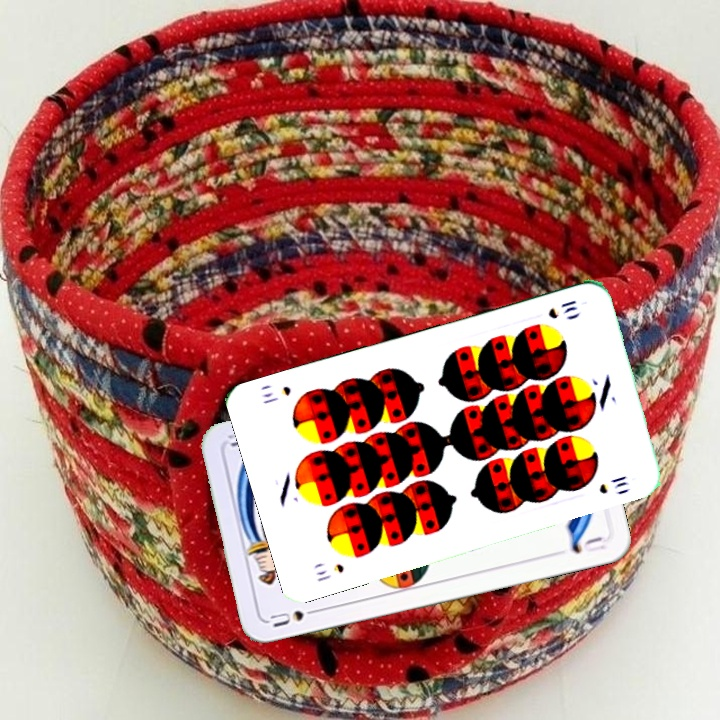S10: (312, 559, 347, 585), (544, 296, 580, 321)
SU: (266, 602, 324, 630)
